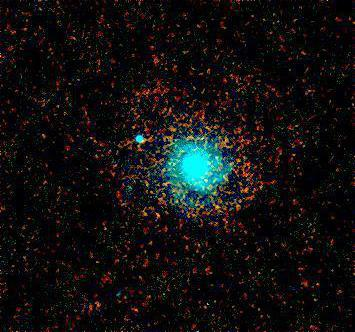star: (187, 122, 217, 152)
